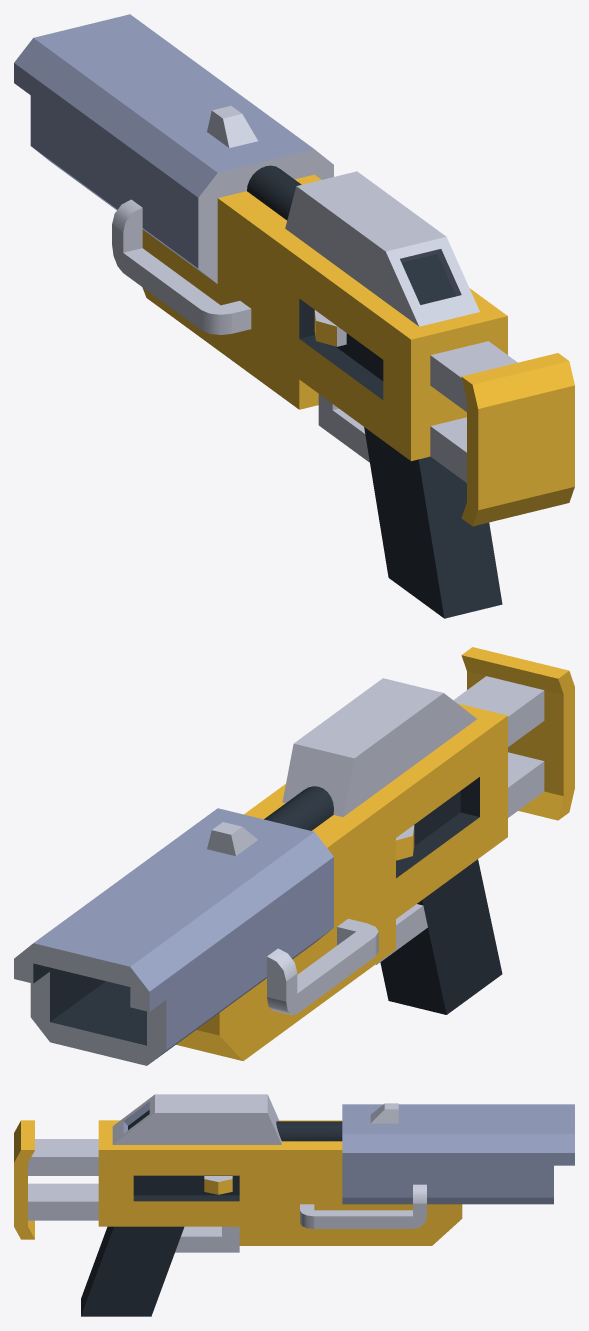
Rendered from blasterG.dae.
3 renders of one model, top to bottom at view 1: azimuth 30°, elevation 25°; view 2: azimuth 150°, elevation 25°; view 3: azimuth 270°, elevation 25°, orthographic. The views are drawn at different scales.
Parts seen in each view (by area): view 1: blasterG; view 2: blasterG; view 3: blasterG.
Boxes of the visible parts, x1,y1,x2,y2 form: blasterG: [14, 14, 574, 618]; blasterG: [14, 647, 574, 1065]; blasterG: [14, 1094, 574, 1316].
Bounding box in the file's own units: 0.18 × 0.32 × 0.7959.
